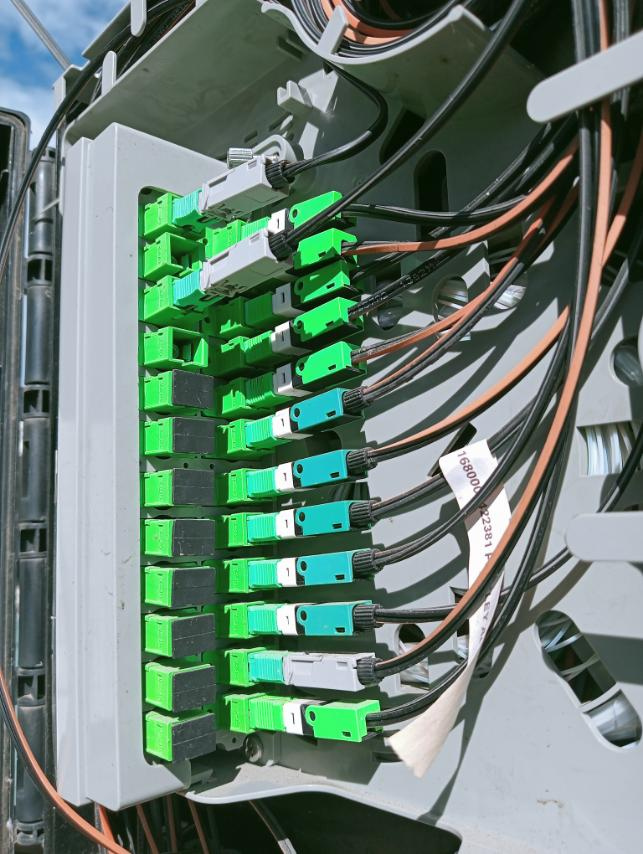no dust cap: (168, 328, 209, 367), (168, 233, 204, 272)
occupied: (170, 213, 306, 310), (243, 284, 369, 370), (171, 144, 301, 226), (241, 375, 374, 452), (241, 332, 372, 410), (237, 218, 370, 290), (237, 182, 373, 251), (241, 255, 361, 323), (248, 494, 387, 552), (247, 441, 384, 499), (253, 701, 398, 746), (248, 547, 394, 589), (248, 599, 393, 640), (248, 652, 392, 693)
vacant: (170, 665, 217, 714), (173, 713, 216, 763), (172, 614, 215, 660), (171, 521, 217, 559), (171, 570, 215, 608), (174, 468, 214, 508), (171, 371, 213, 409), (174, 418, 215, 452)
